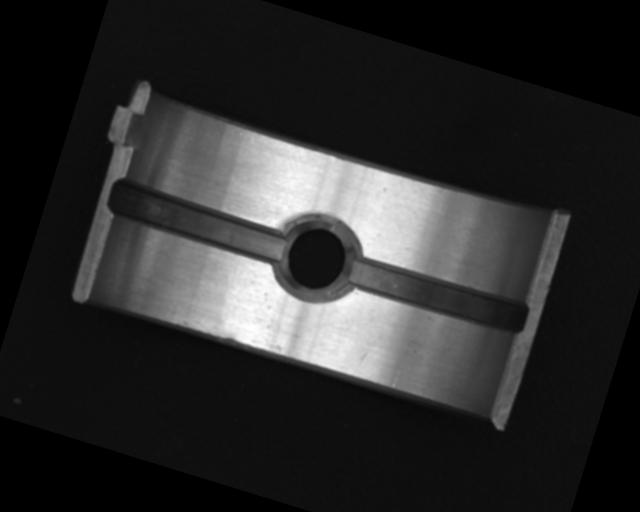gap: (337, 246, 533, 342), (104, 174, 292, 268)
hole: (267, 207, 367, 309)
nick: (389, 367, 403, 389)
